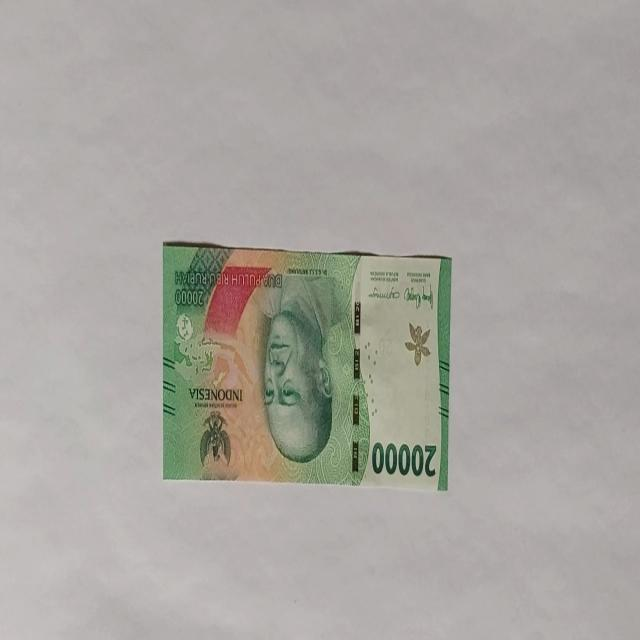dua puluh ribu rupiah: (162, 241, 452, 490), (257, 272, 343, 464)
